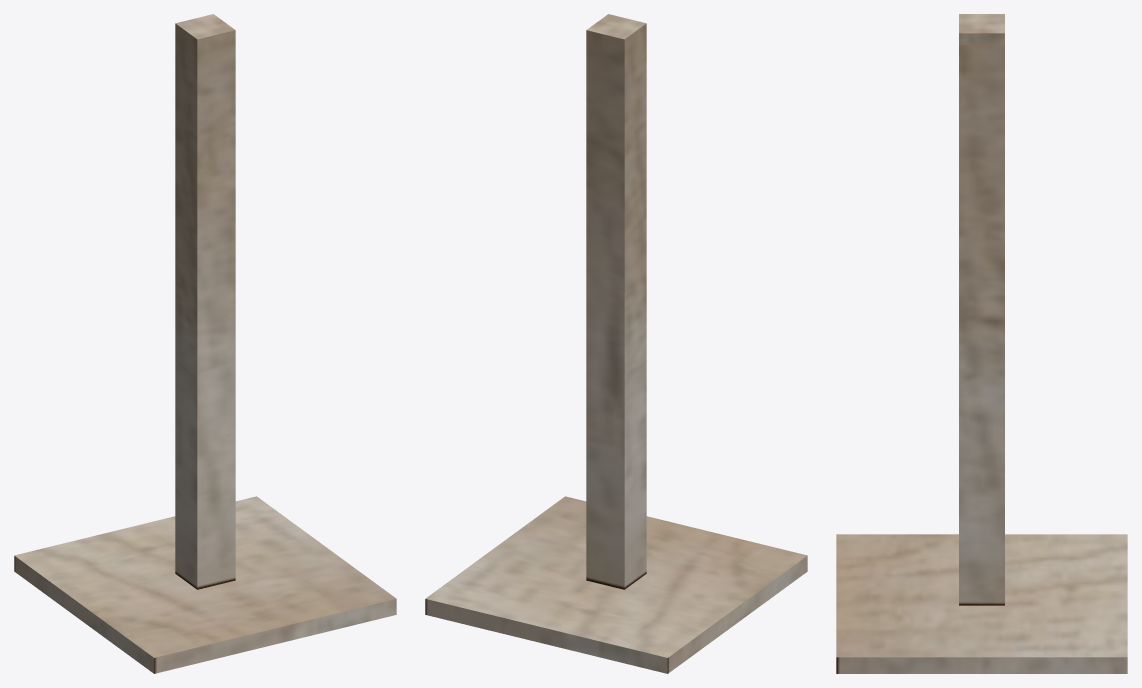
Rendered from finish.gltf.
3 renders of one model, left to right at view 1: azimuth 30°, elevation 25°; view 2: azimuth 150°, elevation 25°; view 3: azimuth 270°, elevation 25°, orthographic. The views are drawn at different scales.
Visible parts, largest first — view 1: Cube; view 2: Cube; view 3: Cube.
Part boxes in pixels (x1,y1,x2,y2): Cube: (14, 14, 396, 673); Cube: (425, 14, 807, 673); Cube: (836, 14, 1127, 673).
Size of the model in its own units: 2 by 4.46 by 2.
Materials: 1 (1 with a texture image).
